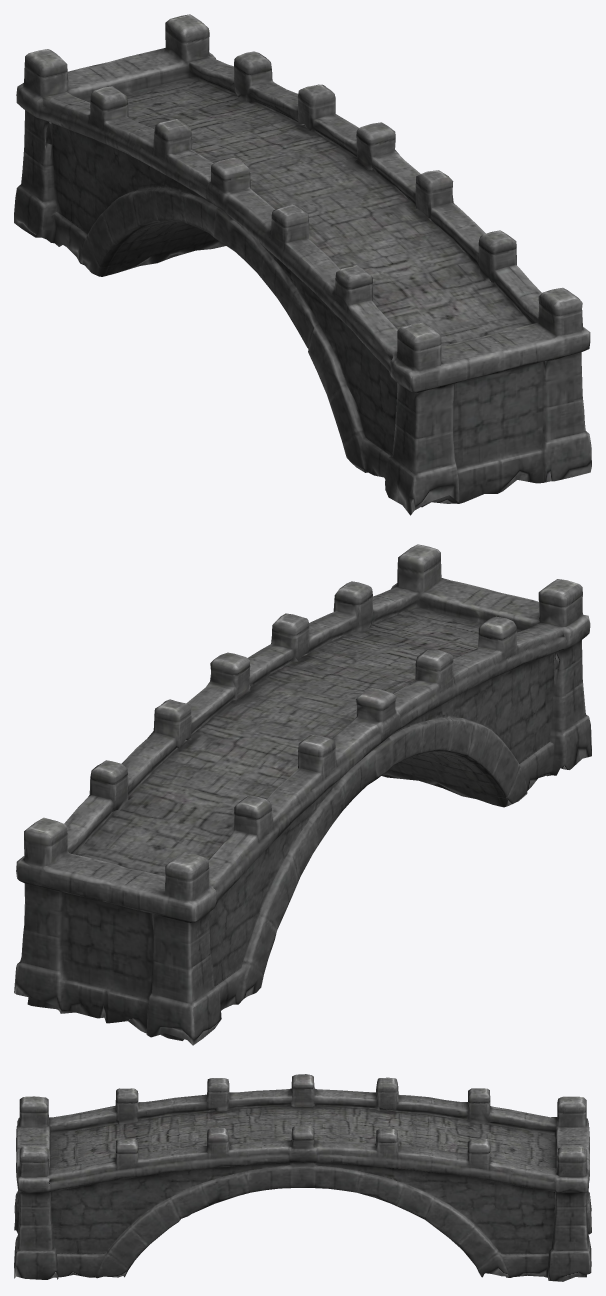
The model's file is bridge_stone.glb.
3 renders of one model, top to bottom at view 1: azimuth 30°, elevation 25°; view 2: azimuth 150°, elevation 25°; view 3: azimuth 270°, elevation 25°, orthographic. The views are drawn at different scales.
Parts seen in each view (by area): view 1: geometry_0; view 2: geometry_0; view 3: geometry_0.
Boxes of the visible parts, x1,y1,x2,y2 form: geometry_0: (14,14,591,515); geometry_0: (14,544,591,1045); geometry_0: (14,1074,591,1281).
Size of the model in its own units: 0.2612 by 0.2816 by 0.9998.
1 material, 1 textured.
